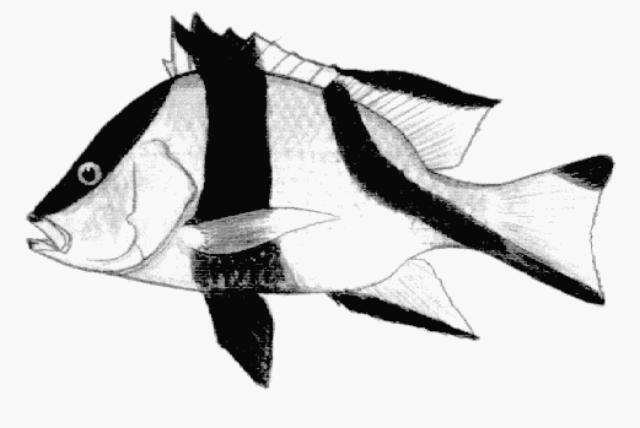Mulut: (13, 187, 77, 289)
Sirip Anal: (324, 251, 486, 355)
Sirip Dada: (139, 198, 345, 262)
Sirip Ekor: (482, 142, 628, 318)
Sirip Perut: (202, 282, 284, 398)
Sirip Punggung: (153, 6, 512, 184)
